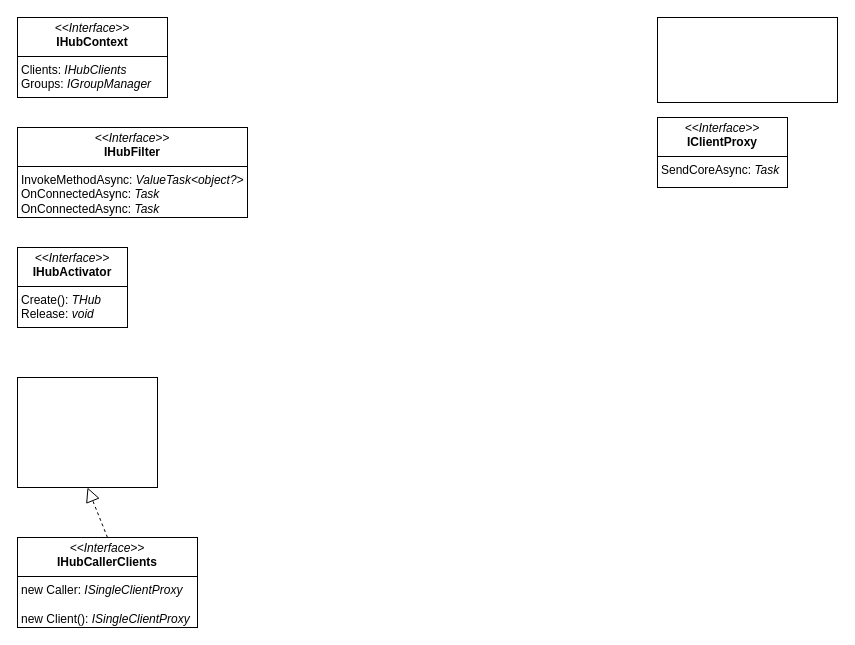
The diagram is 855 pixels wide and 645 high, and some of its shapes have lost their labels. Each missing label, with the centre of its shape:
"<<Interface>> IGroupManager AddToGroupAsync: Task RemoveFromGroupAsync: Task" goes at (747,59).
"<<Interface>> IHubCallerClients<T> Caller: T Others: T OthersInGroup(): T" goes at (87,432).
